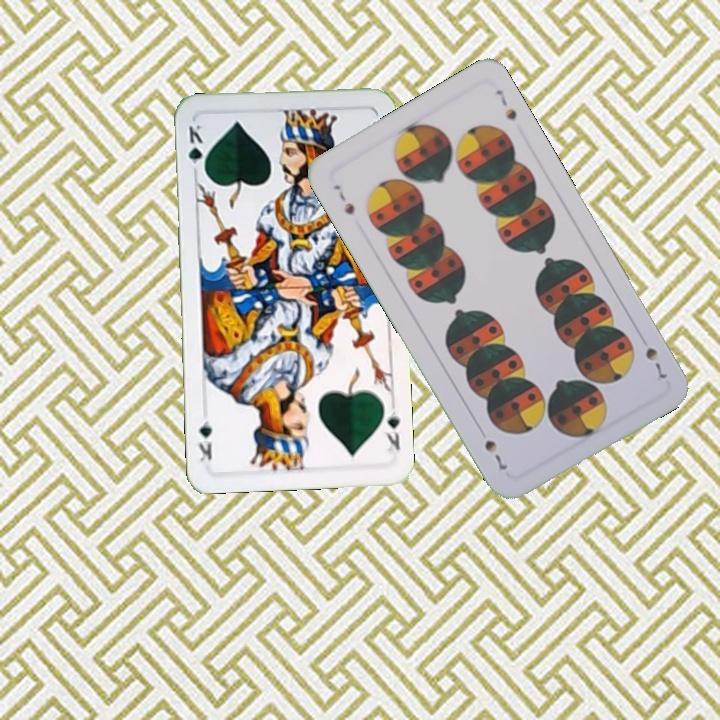GK: (184, 120, 208, 177), (382, 406, 402, 455)
S7: (641, 343, 671, 382), (329, 180, 357, 218)
